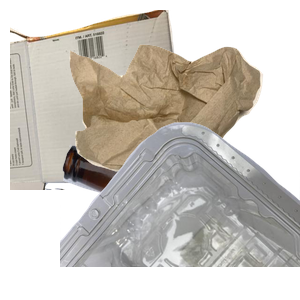cardboard: (10, 10, 191, 190)
glass: (60, 142, 300, 300)
plastic: (60, 120, 300, 300)
trash: (67, 42, 300, 206)
